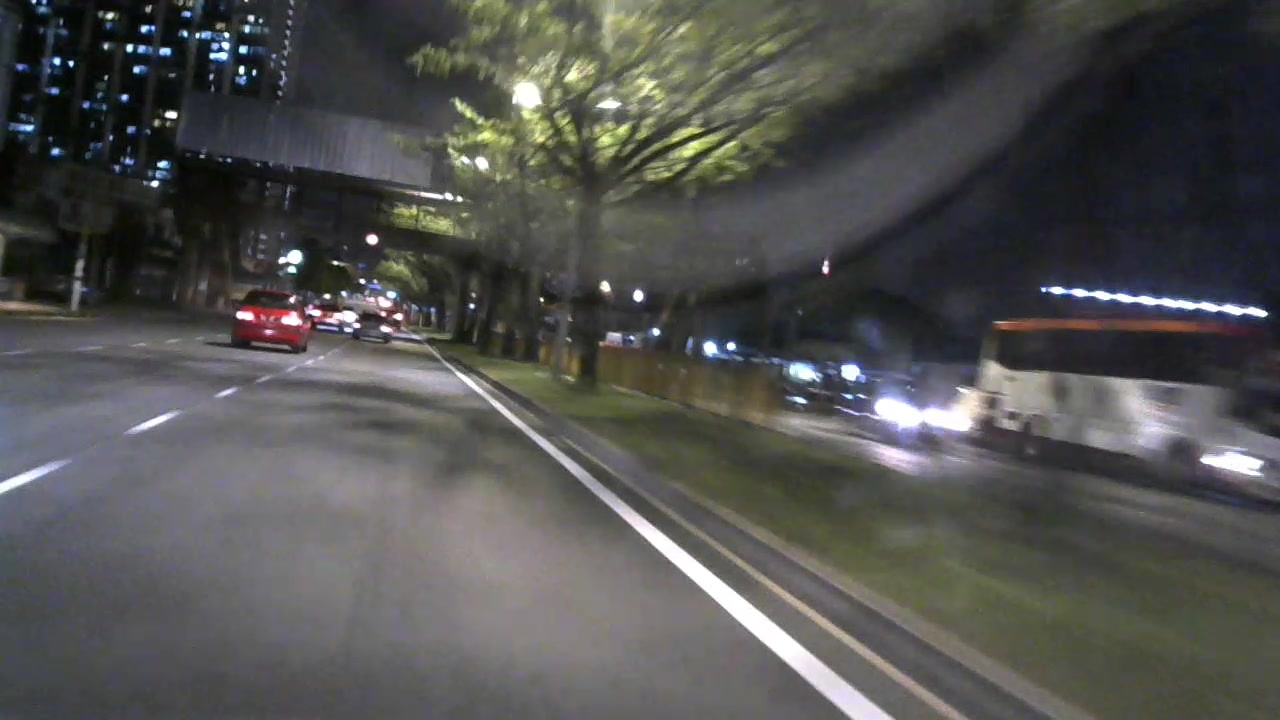Car: (833, 359, 949, 444), (223, 284, 315, 359), (343, 309, 402, 347), (305, 297, 342, 336)
